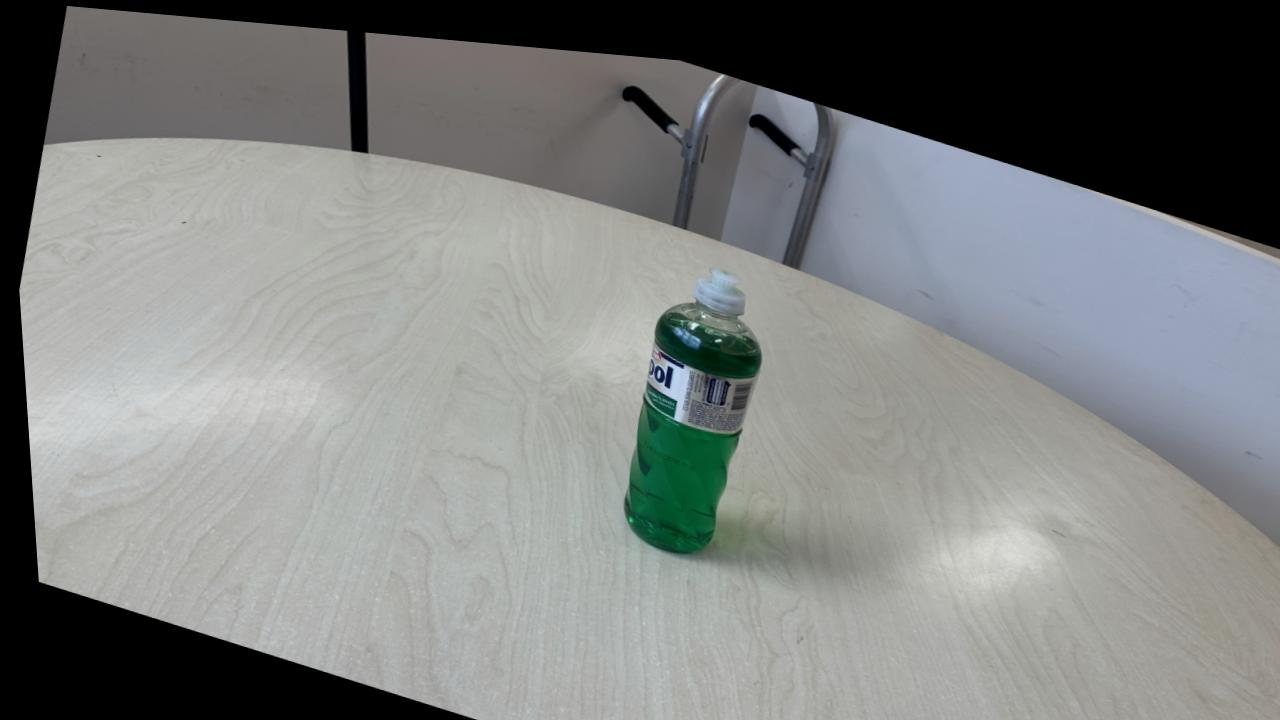Detergent-Cleanup_Items: (616, 256, 759, 545)
